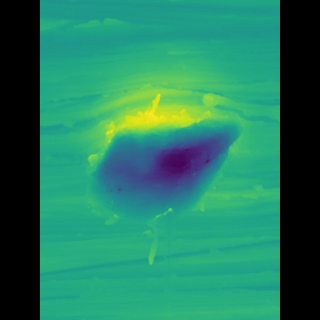Loch: (95, 87, 227, 231)
